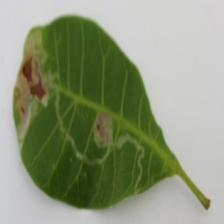leaf miner: (12, 13, 211, 212)
